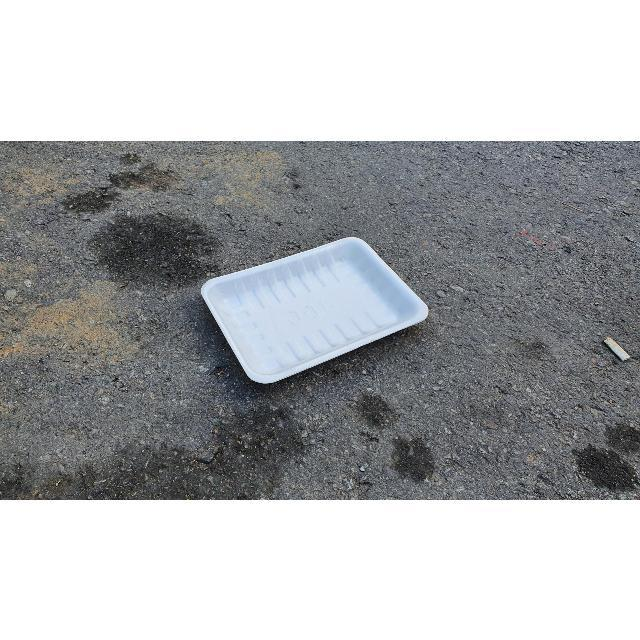Recipiente plastico: (201, 238, 428, 383)
